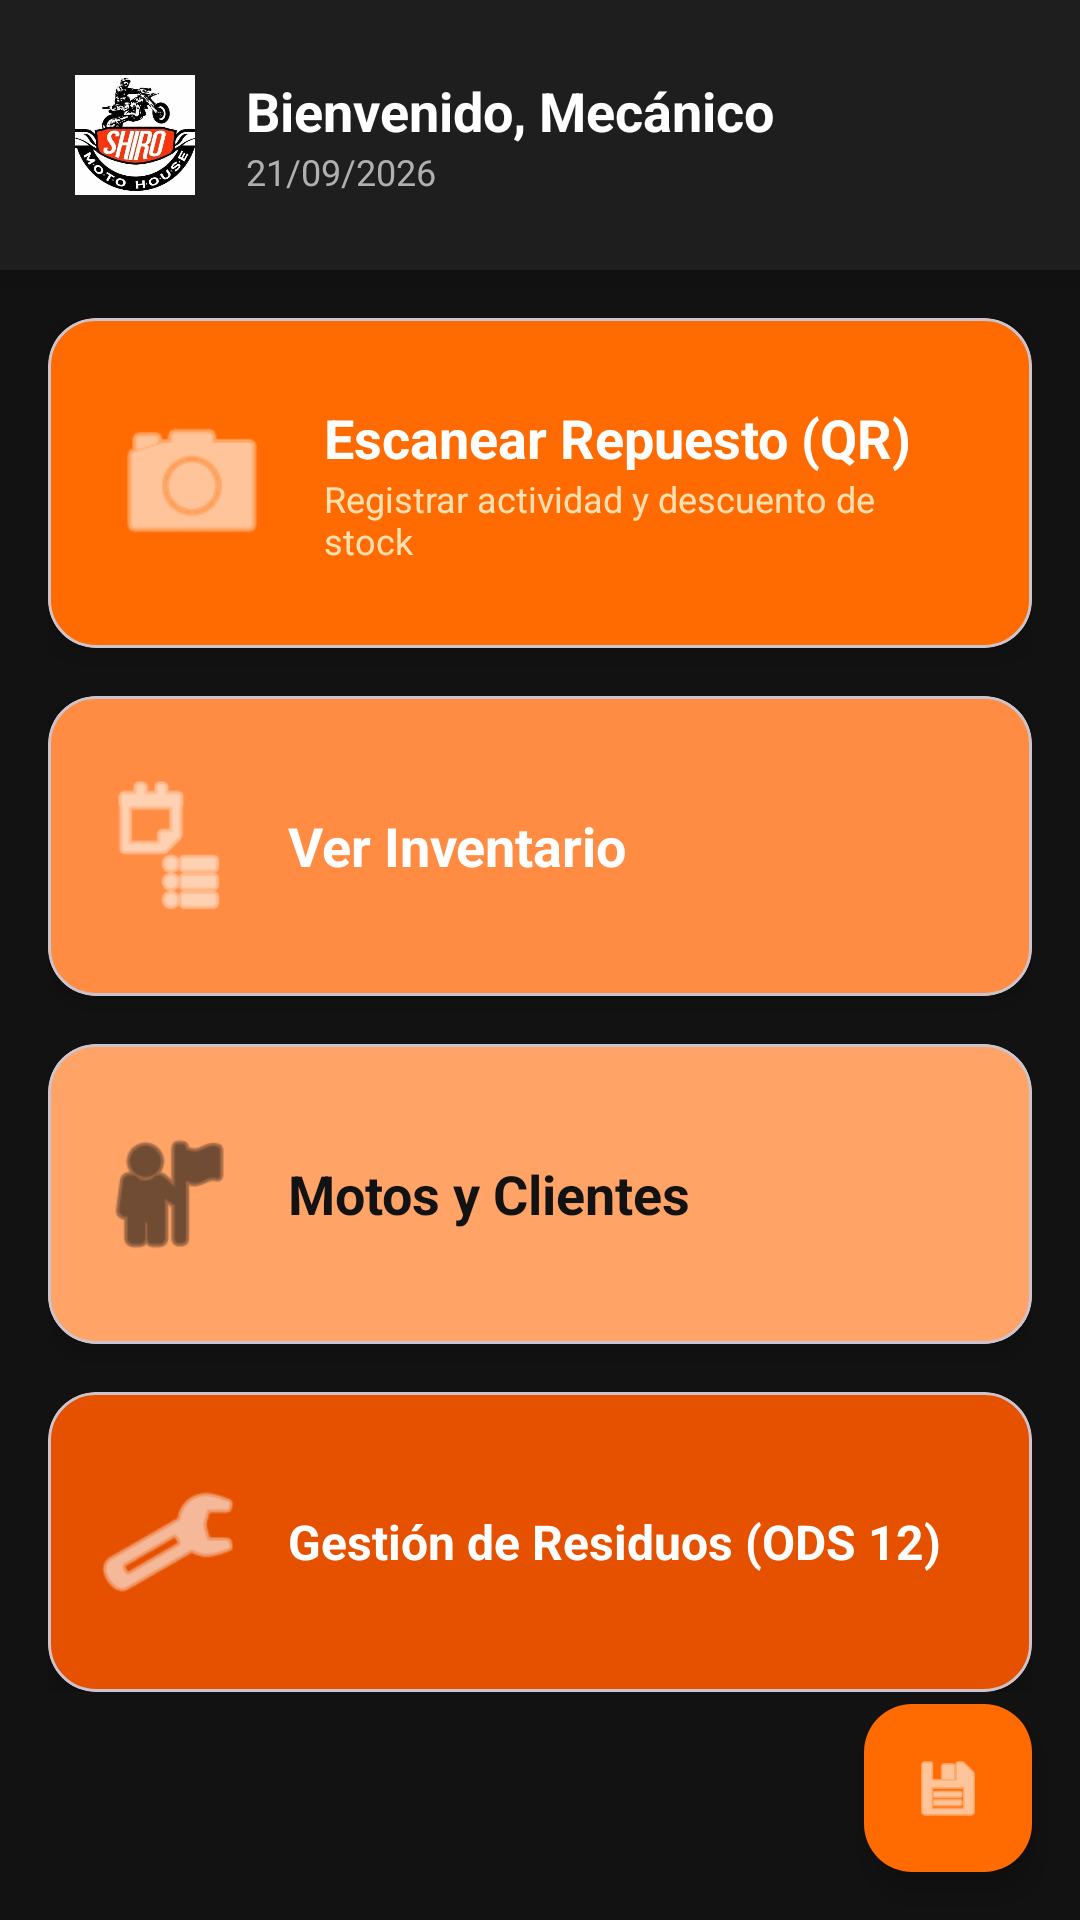

Screen size 1080px x 1920px. Icon name, then its box in pixels as (x1, y1, x2, y2):
agenda: (118, 781, 219, 909)
camera: (127, 429, 257, 532)
manage: (103, 1492, 233, 1592)
myplaces: (115, 1140, 224, 1248)
save: (864, 1704, 1032, 1872)
